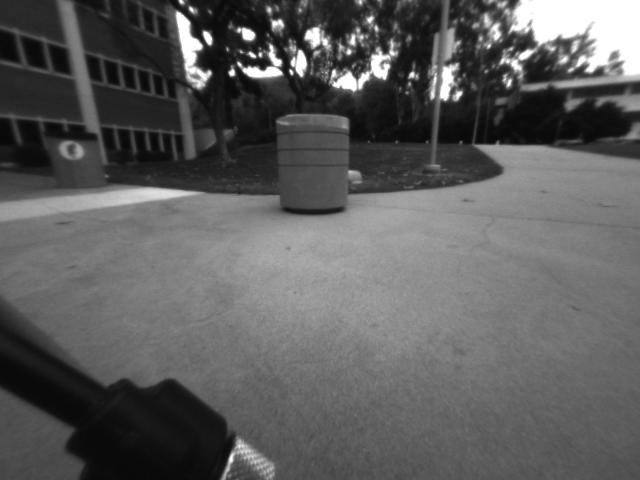trashcan: (270, 106, 353, 220), (39, 124, 109, 196)
